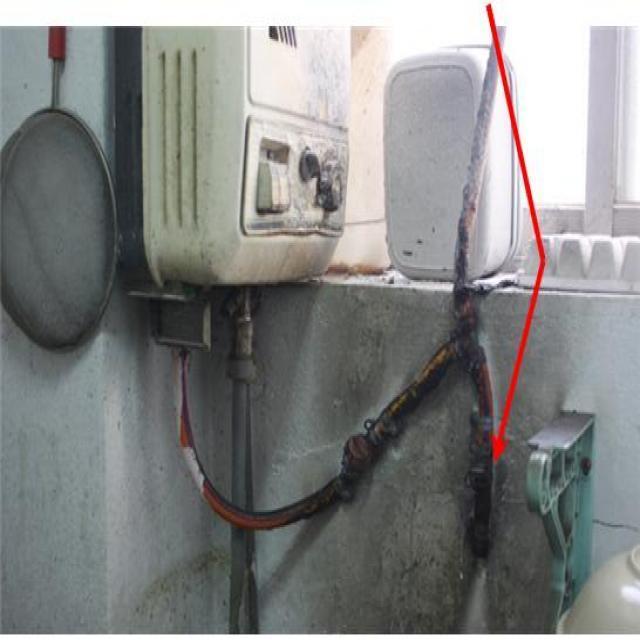Boiler: (120, 24, 372, 366)
